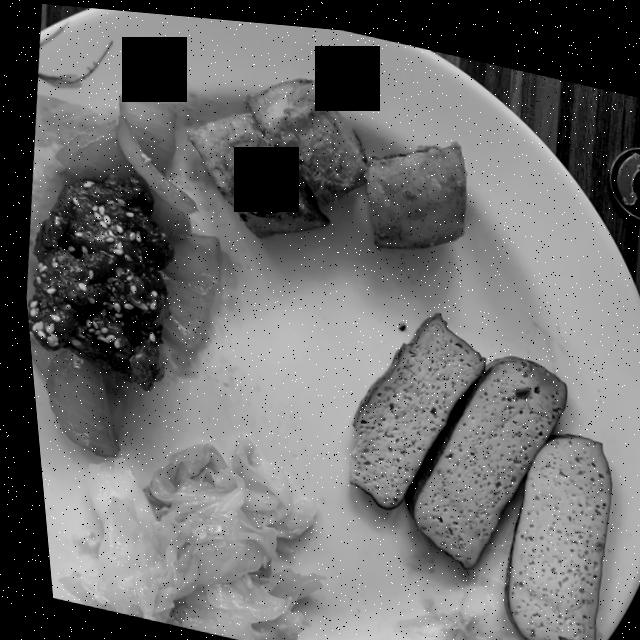cabbage: (51, 431, 312, 640)
coin: (607, 136, 640, 210)
firm tofu: (342, 306, 604, 640)
fried potato: (186, 73, 464, 242)
